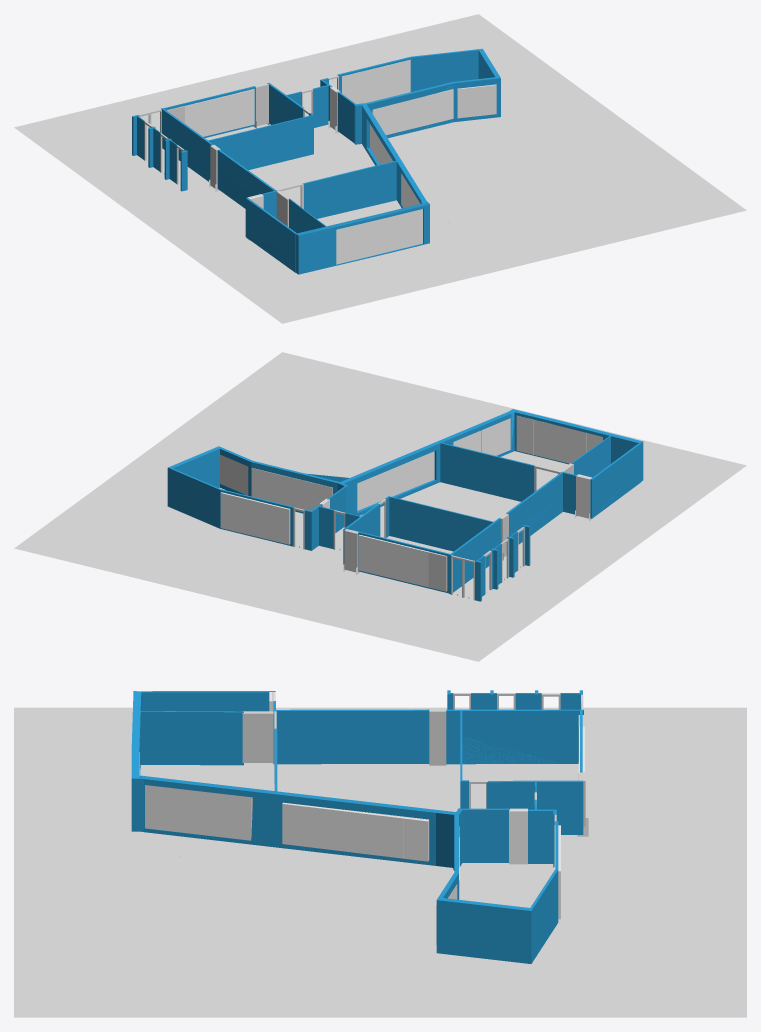
The model's file is ICT_Ruimte.fbx.
3 renders of one model, top to bottom at view 1: azimuth 30°, elevation 25°; view 2: azimuth 150°, elevation 25°; view 3: azimuth 270°, elevation 25°, orthographic. The views are drawn at different scales.
Visible parts, largest first — view 1: Plane, Cube.003, Cube.004, Cube.001, Cube.002, Cube.005, Cube.007, CTRL_Hole.018, CTRL_Hole.026, CTRL_Hole.023, CTRL_Hole.016, CTRL_Hole.019 (+13 smaller); view 2: Plane, Cube.003, Cube.004, Cube.002, Cube.001, Cube.007, Cube.005, CTRL_Hole.034, CTRL_Hole.021, CTRL_Hole.037, CTRL_Hole.016, CTRL_Hole.019 (+10 smaller); view 3: Plane, Cube.003, Cube.002, Cube.004, Cube.005, Cube.001, CTRL_Hole.025, Cube.007, CTRL_Hole.031, CTRL_Hole.030, CTRL_Hole.029, CTRL_Hole.027 (+8 smaller).
Part boxes in pixels (bbox=[...]): Plane: bbox=[14, 14, 746, 323]; Cube.003: bbox=[289, 48, 500, 274]; Cube.004: bbox=[161, 86, 313, 181]; Cube.001: bbox=[245, 197, 296, 272]; Cube.002: bbox=[217, 149, 277, 218]; Cube.005: bbox=[267, 83, 304, 124]; Cube.007: bbox=[313, 78, 332, 127]; CTRL_Hole.018: bbox=[219, 93, 237, 132]; CTRL_Hole.026: bbox=[353, 221, 371, 260]; CTRL_Hole.023: bbox=[388, 213, 406, 251]; CTRL_Hole.016: bbox=[237, 89, 254, 128]; CTRL_Hole.019: bbox=[202, 97, 219, 136]; Plane: bbox=[14, 352, 746, 661]; Cube.003: bbox=[167, 409, 643, 546]; Cube.004: bbox=[358, 496, 500, 594]; Cube.002: bbox=[506, 471, 576, 544]; Cube.001: bbox=[590, 443, 640, 518]; Cube.007: bbox=[304, 504, 334, 550]; Cube.005: bbox=[343, 504, 380, 564]; CTRL_Hole.034: bbox=[271, 505, 290, 544]; CTRL_Hole.021: bbox=[428, 551, 447, 591]; CTRL_Hole.037: bbox=[236, 496, 254, 535]; CTRL_Hole.016: bbox=[358, 534, 376, 574]; CTRL_Hole.019: bbox=[393, 543, 411, 582]; Plane: bbox=[14, 707, 746, 1017]; Cube.003: bbox=[131, 691, 558, 963]; Cube.002: bbox=[273, 701, 429, 764]; Cube.004: bbox=[446, 709, 583, 808]; Cube.005: bbox=[486, 780, 583, 834]; Cube.001: bbox=[141, 691, 275, 711]; CTRL_Hole.025: bbox=[242, 711, 273, 762]; Cube.007: bbox=[528, 799, 556, 867]; CTRL_Hole.031: bbox=[224, 794, 252, 840]; CTRL_Hole.030: bbox=[198, 791, 224, 837]; CTRL_Hole.029: bbox=[171, 788, 197, 834]; CTRL_Hole.027: bbox=[145, 785, 171, 831].
Size of the model in its own units: 5971 by 509 by 5971.
